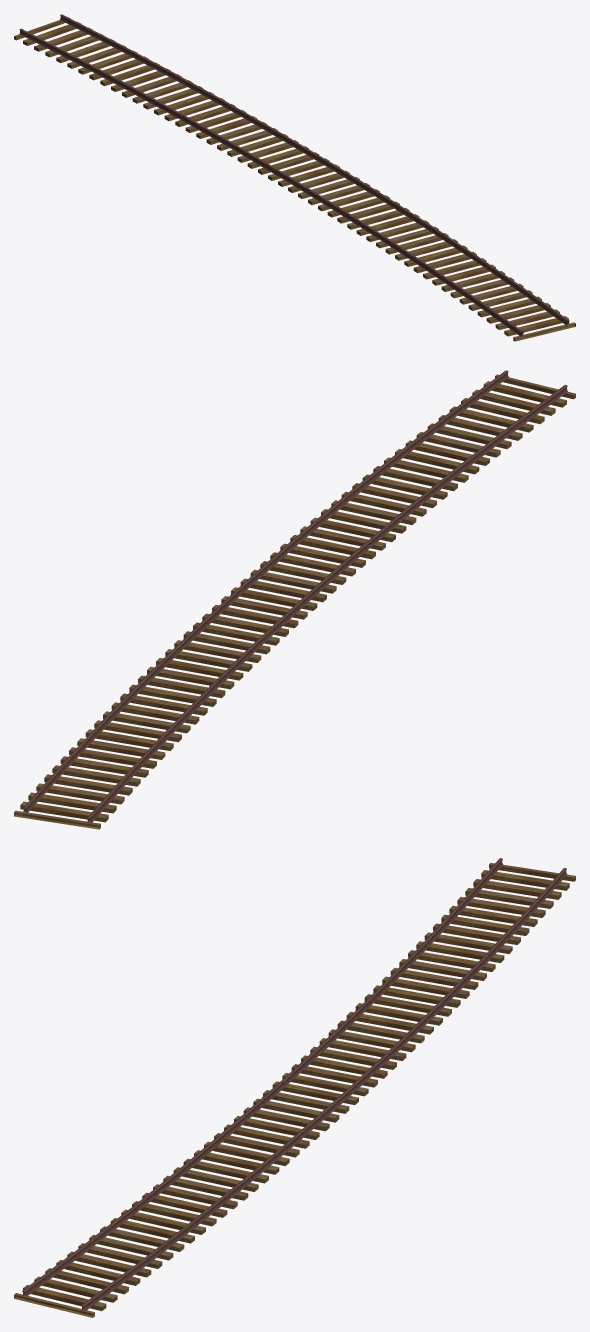
Rendered from rail_006.fbx.
3 views of the same model, one above another, from view 1: azimuth 30°, elevation 25°; view 2: azimuth 150°, elevation 25°; view 3: azimuth 330°, elevation 25° (orthographic). The views are drawn at different scales.
Visible parts, largest first — view 1: main; view 2: main; view 3: main.
Boxes of the visible parts, box(x1,y1,x2,y2) form: main: box(14, 14, 575, 341); main: box(14, 370, 575, 829); main: box(14, 858, 575, 1317).
Size of the model in its own units: 832 by 50 by 5009.
